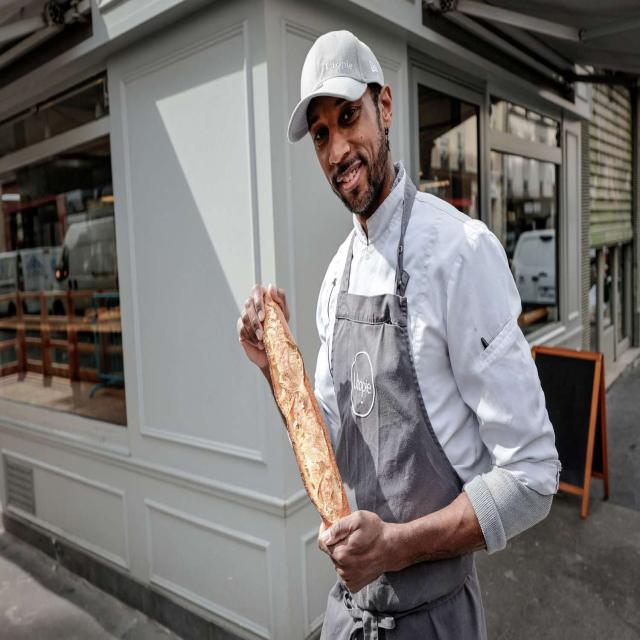Baguette: (263, 299, 349, 526)
